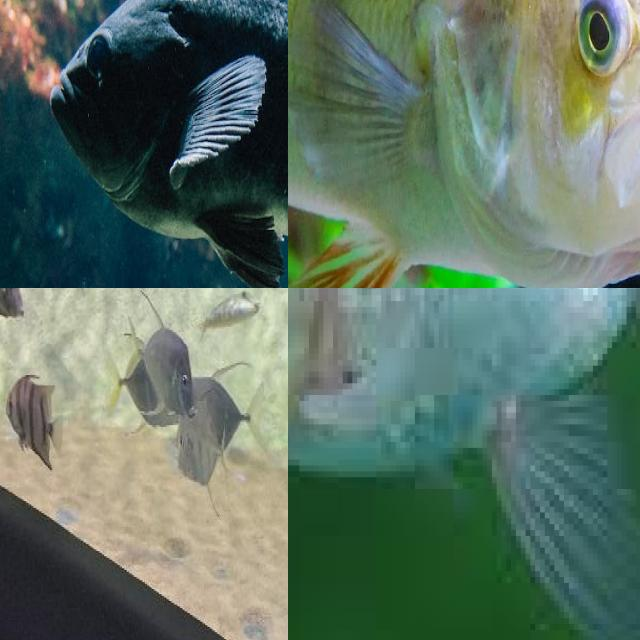fish: (288, 288, 640, 640), (288, 0, 640, 288), (0, 0, 288, 288)
